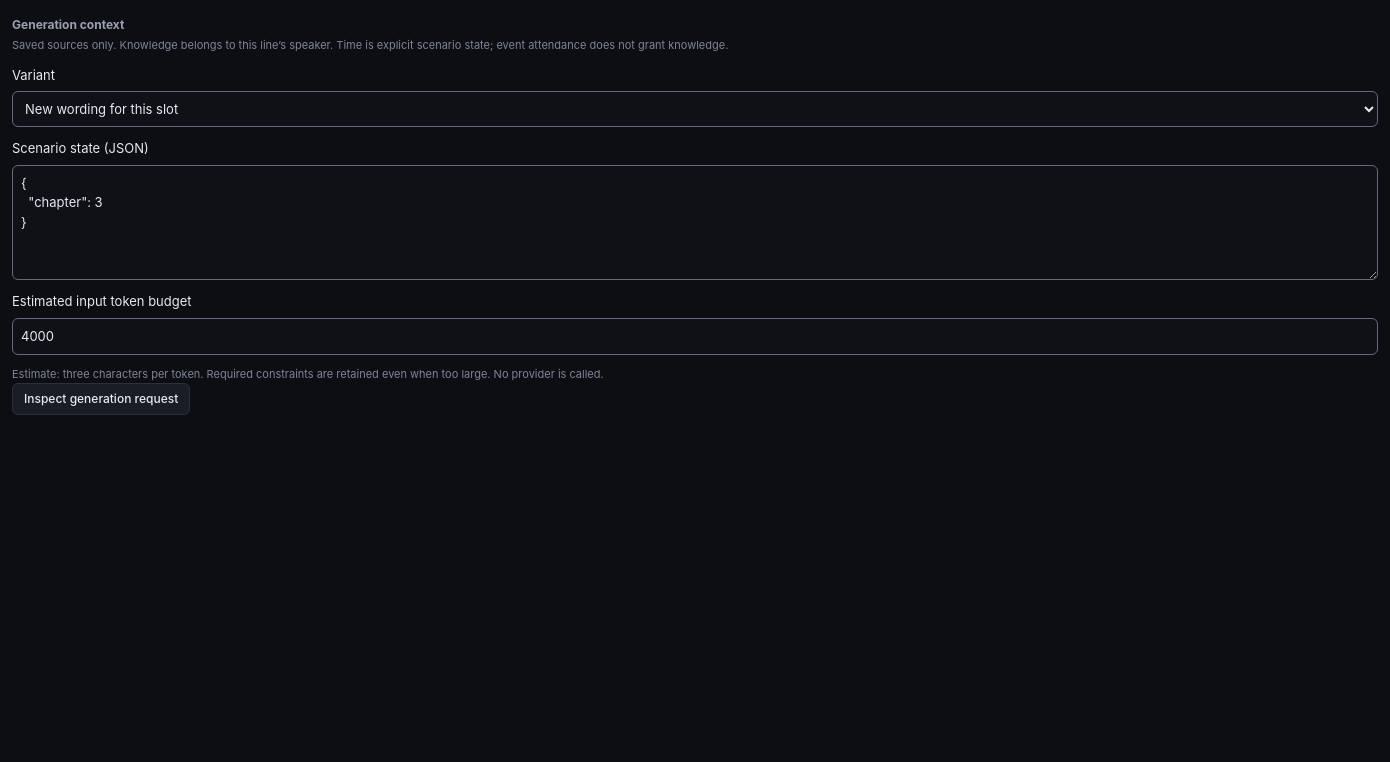
Test: captures complete scenario and retains exact frozen request when freshness fails
The image size is (1390, 762).
Step 1. Click the button "Inspect generation request" → (101, 399), box x1=12 y1=383 x2=190 y2=415
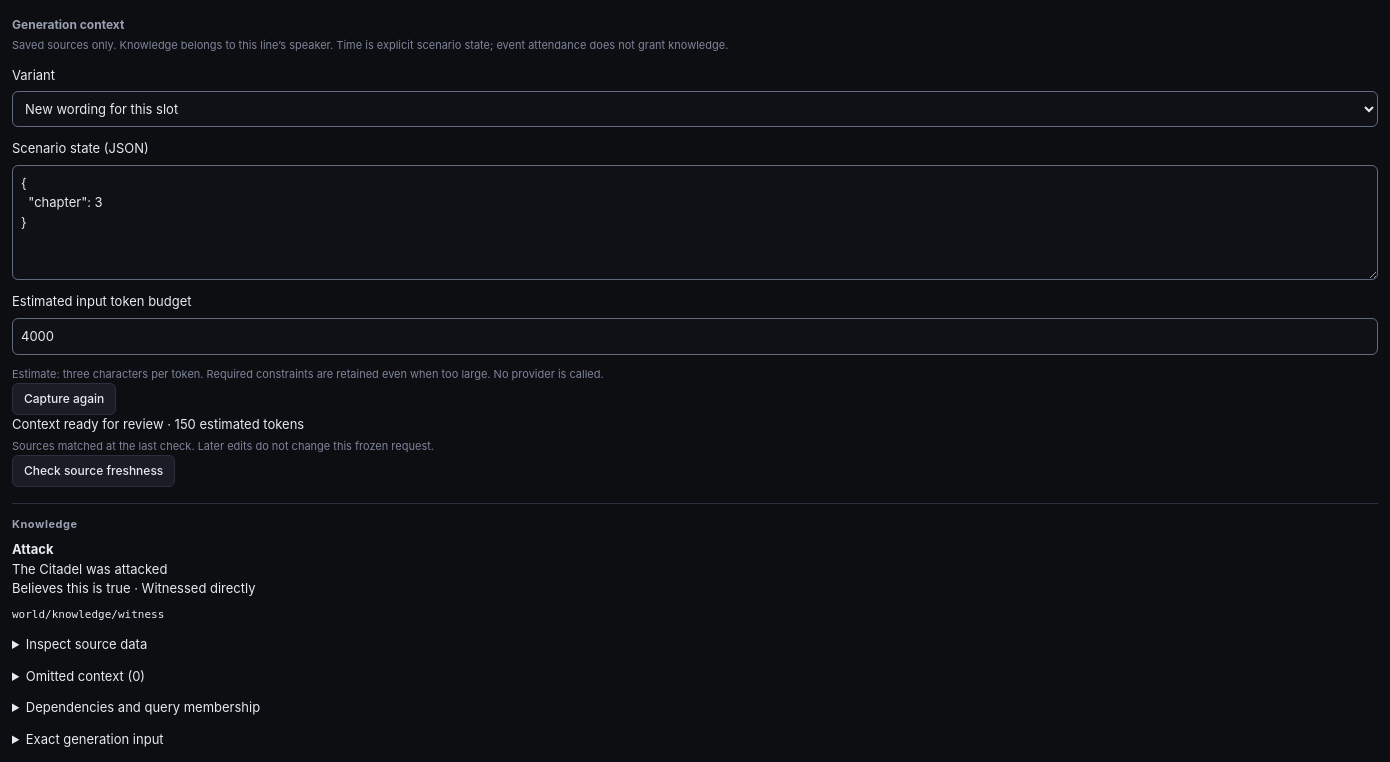
Result: the text "Context ready for review · 150 estimated tokens" is shown at x1=12 y1=416 x2=304 y2=432
Step 2. Click the button "Check source freshness" → (94, 471), box x1=12 y1=455 x2=175 y2=487
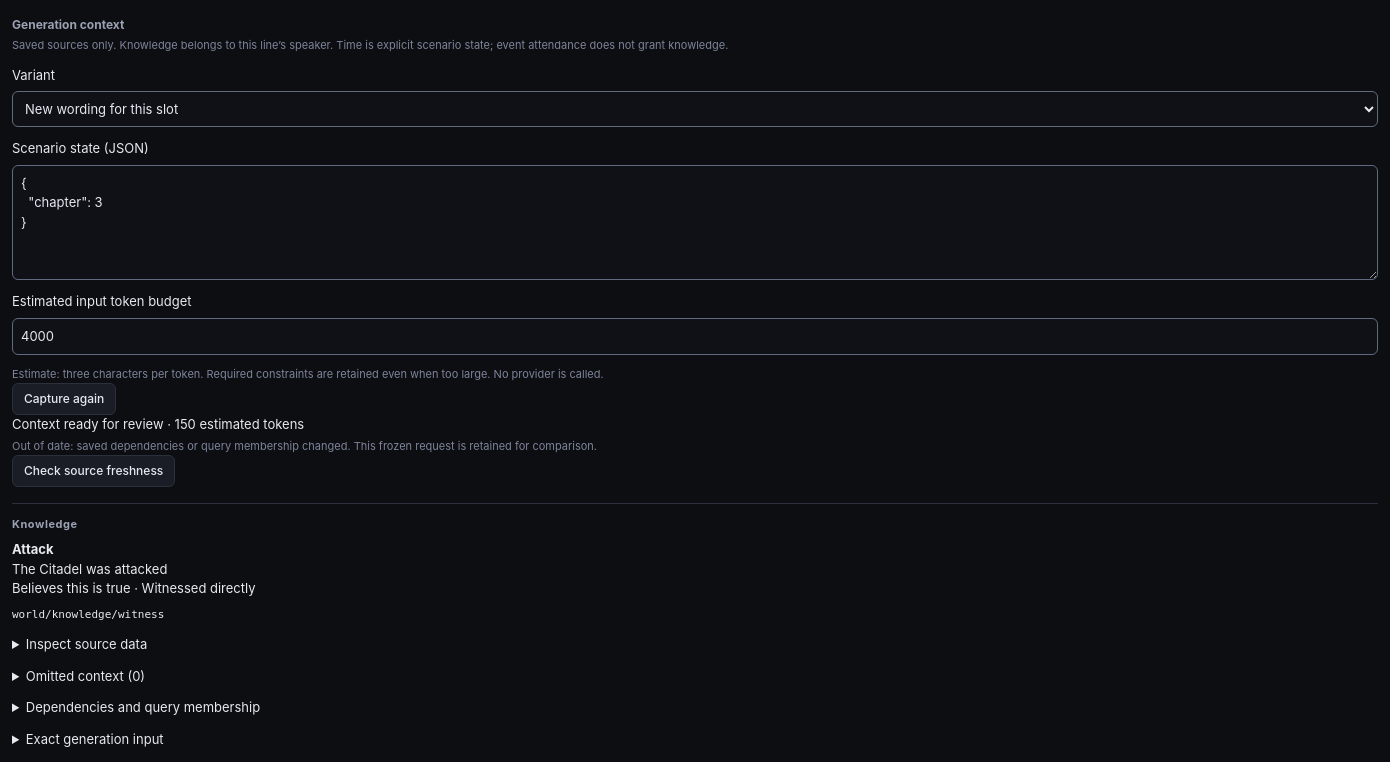
Result: the text "Out of date: saved dependencies" is shown at x1=12 y1=439 x2=597 y2=453
